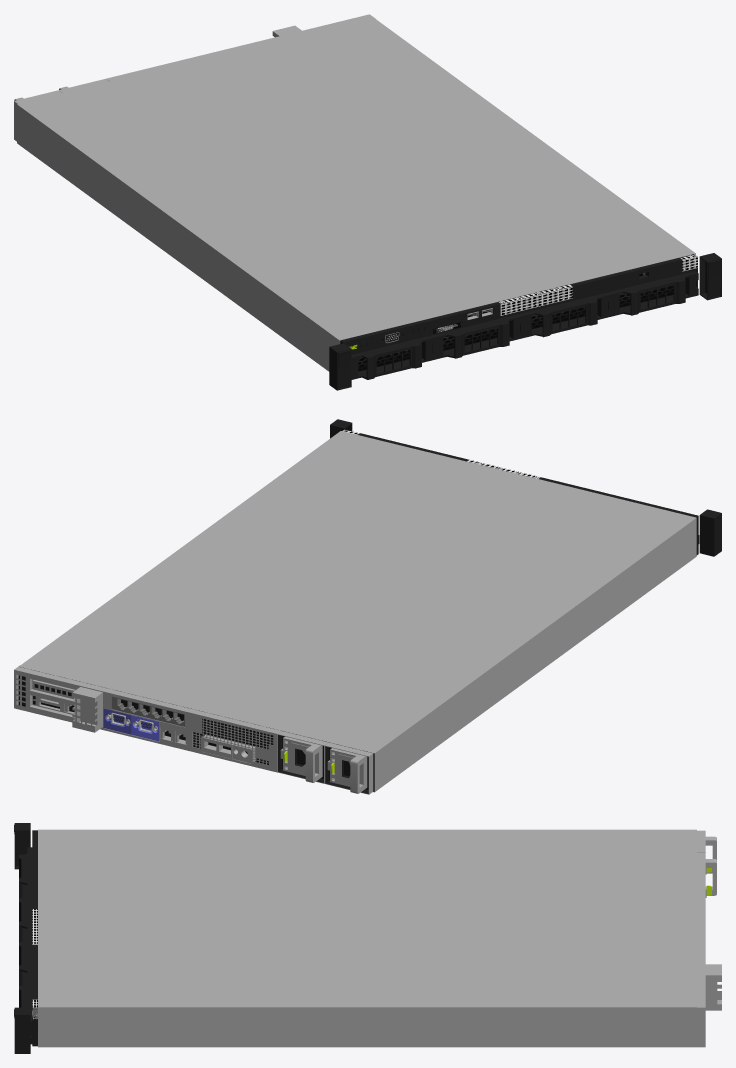
The model's file is Dell_R420.fbx.
The picture shows the model from 3 angles, top to bottom: view 1: azimuth 30°, elevation 25°; view 2: azimuth 150°, elevation 25°; view 3: azimuth 270°, elevation 25°; orthographic projection. The views are drawn at different scales.
Visible parts, largest first — view 1: Dell_R420; view 2: Dell_R420; view 3: Dell_R420.
Boxes of the visible parts, x1,y1,x2,y2 form: Dell_R420: (14, 14, 721, 390); Dell_R420: (14, 419, 721, 794); Dell_R420: (14, 823, 721, 1053).
Bounding box in the file's own units: 468 × 45.36 × 731.
Materials: 11 (3 with a texture image).
